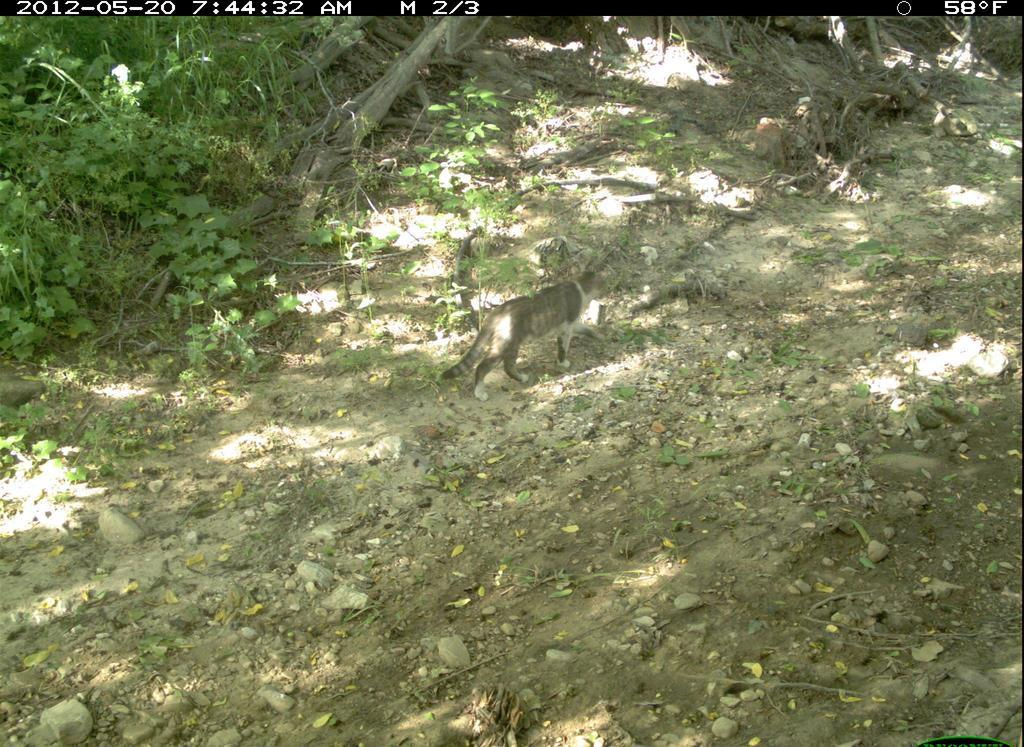cat: (441, 260, 619, 402)
